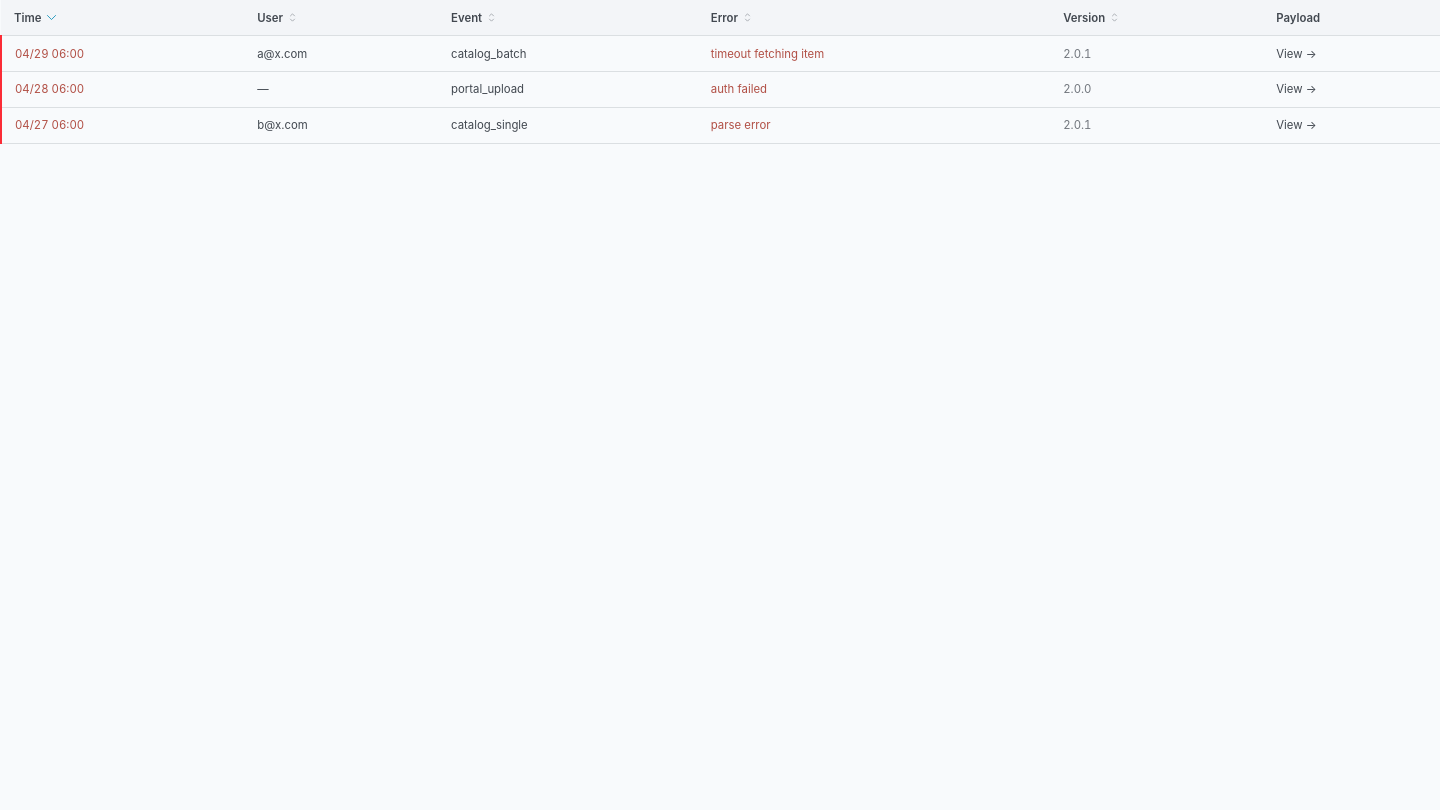
Test: <RecentErrorsTable> › dev: clicking View → opens PayloadViewerModal with row-derived title and payload
Click the button "View →" in the row of "04/29 06:00" at (1296, 54), box [1276,46,1316,62]
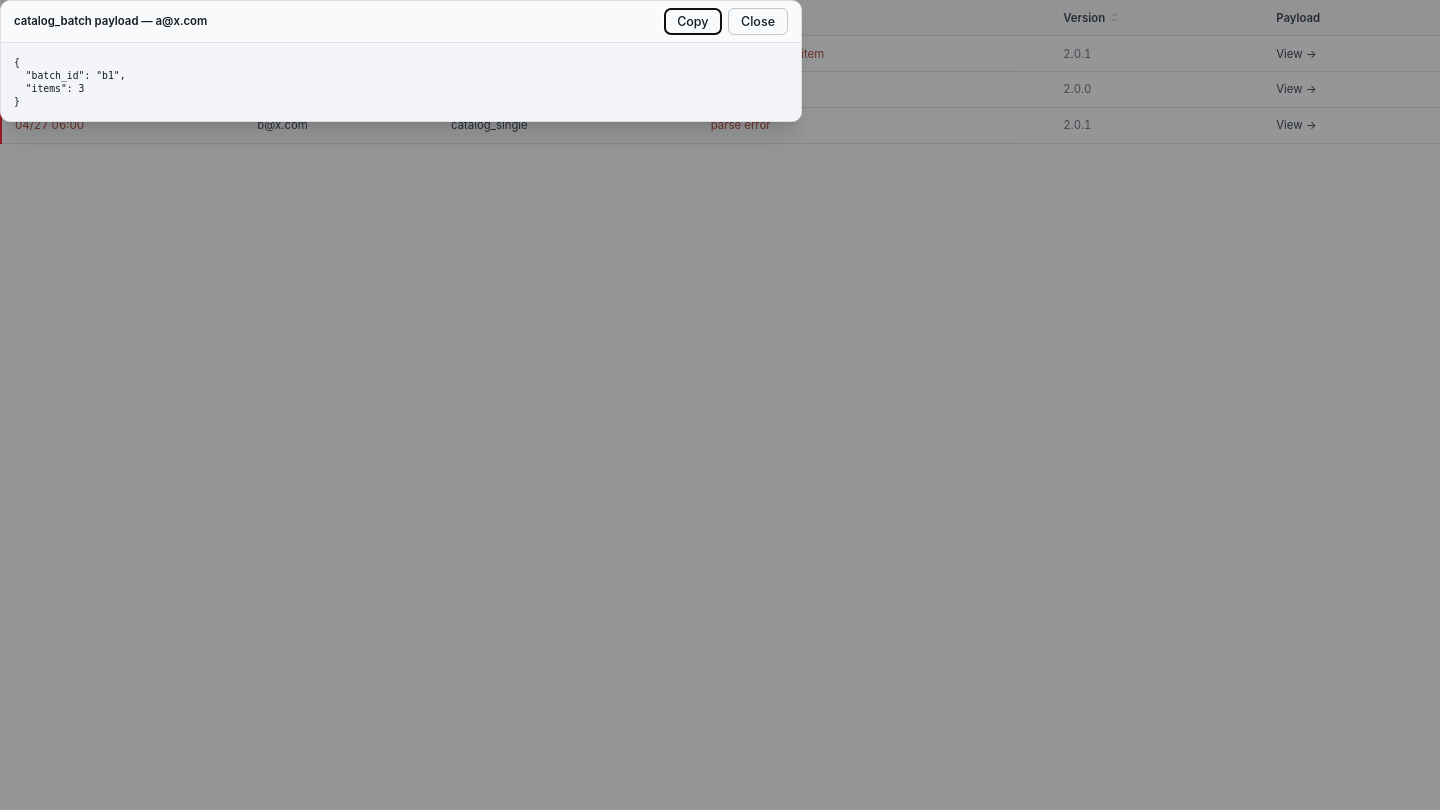
Expected: the heading "catalog_batch payload — a@x.com" is shown, [14,13,207,30]
Expected: the text with test id "payload-modal-body" shows "\"batch_id\": \"b1\"", [14,57,126,107]
